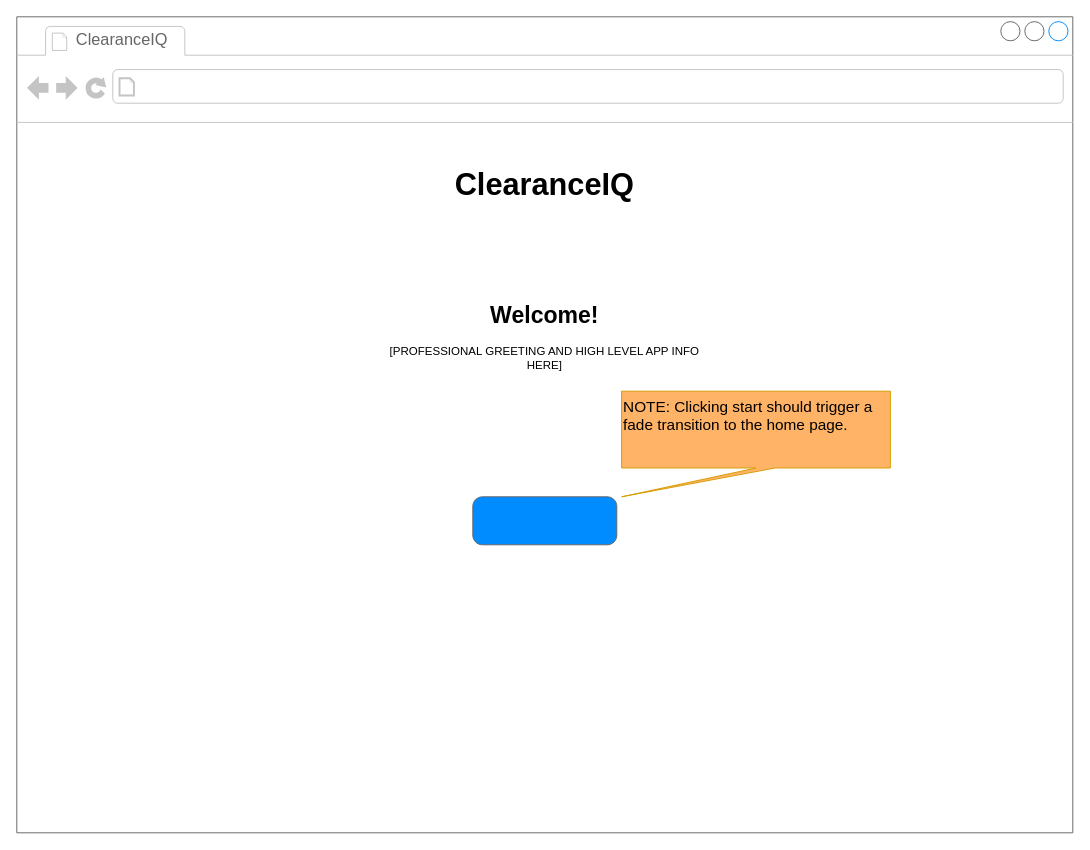
The diagram is 1090 pixels wide and 850 high, and some of its shapes have lost their labels. Each missing label, with the centre of its shape:
https://clearanceiq.com: point 261,86
Start: point 544,520
